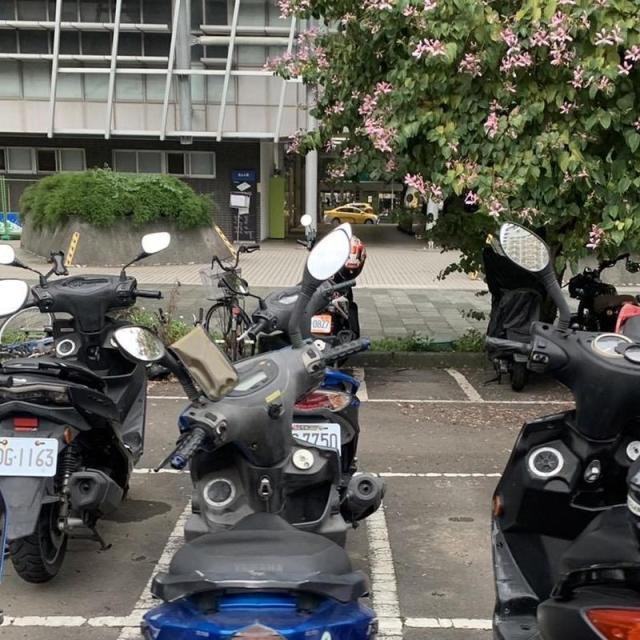W: (0, 431, 63, 479), (282, 418, 348, 454)
